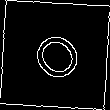O_SE: (21, 21, 89, 89)
